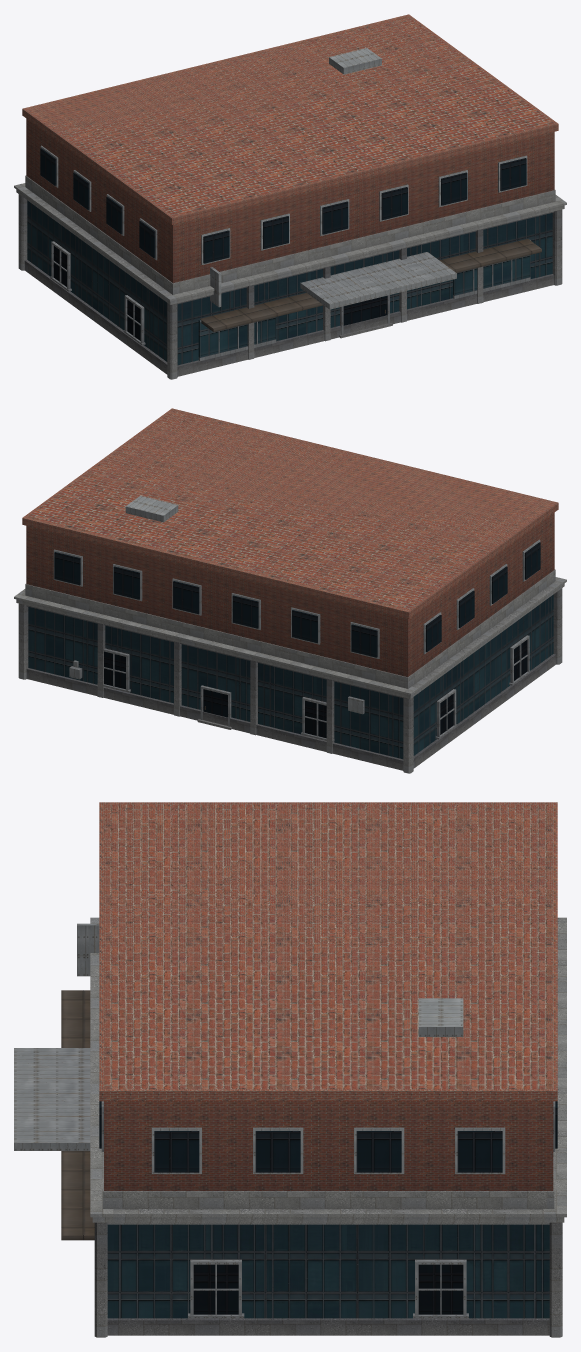
Rendered from ironworks-fitness-center_lod0.gltf.
3 renders of one model, top to bottom at view 1: azimuth 30°, elevation 25°; view 2: azimuth 150°, elevation 25°; view 3: azimuth 270°, elevation 25°, orthographic. The views are drawn at different scales.
Visible parts, largest first — view 1: ironworks-fitness-center_upper, ironworks-fitness-center__parapet, ironworks-fitness-center__v4_stone_detail, ironworks-fitness-center_base, ironworks-fitness-center_fen_07-glass-curtain-blue_1_t, ironworks-fitness-center__canopy, ironworks-fitness-center_fen_14-steel-panel_0, ironworks-fitness-center__v4_metal_detail, ironworks-fitness-center_fen_07-glass-curtain-blue_4, ironworks-fitness-center__hvac; view 2: ironworks-fitness-center_upper, ironworks-fitness-center__parapet, ironworks-fitness-center_base, ironworks-fitness-center__v4_stone_detail, ironworks-fitness-center_fen_07-glass-curtain-blue_1_t, ironworks-fitness-center_fen_14-steel-panel_0, ironworks-fitness-center__hvac; view 3: ironworks-fitness-center_upper, ironworks-fitness-center__parapet, ironworks-fitness-center_base, ironworks-fitness-center__v4_stone_detail, ironworks-fitness-center_fen_07-glass-curtain-blue_1_t, ironworks-fitness-center__canopy, ironworks-fitness-center_fen_14-steel-panel_0, ironworks-fitness-center__v4_metal_detail, ironworks-fitness-center__hvac, ironworks-fitness-center__blade_sign.
Boxes of the visible parts, box(x1,y1,x2,y2) form: ironworks-fitness-center_upper: box(26, 16, 554, 283); ironworks-fitness-center__parapet: box(22, 14, 558, 224); ironworks-fitness-center__v4_stone_detail: box(14, 175, 566, 379); ironworks-fitness-center_base: box(27, 200, 552, 365); ironworks-fitness-center_fen_07-glass-curtain-blue_1_t: box(40, 148, 526, 340); ironworks-fitness-center__canopy: box(300, 252, 456, 309); ironworks-fitness-center_fen_14-steel-panel_0: box(40, 145, 530, 361); ironworks-fitness-center__v4_metal_detail: box(200, 239, 541, 331); ironworks-fitness-center_fen_07-glass-curtain-blue_4: box(198, 239, 530, 357); ironworks-fitness-center__hvac: box(329, 48, 381, 74); ironworks-fitness-center_upper: box(26, 410, 554, 677); ironworks-fitness-center__parapet: box(22, 408, 558, 618); ironworks-fitness-center_base: box(28, 594, 553, 759); ironworks-fitness-center__v4_stone_detail: box(14, 569, 566, 773); ironworks-fitness-center_fen_07-glass-curtain-blue_1_t: box(54, 542, 540, 738); ironworks-fitness-center_fen_14-steel-panel_0: box(53, 539, 540, 742); ironworks-fitness-center__hvac: box(125, 495, 178, 522); ironworks-fitness-center_upper: box(104, 804, 553, 1190); ironworks-fitness-center__parapet: box(99, 802, 557, 1101); ironworks-fitness-center_base: box(107, 1224, 549, 1318); ironworks-fitness-center__v4_stone_detail: box(90, 917, 566, 1337); ironworks-fitness-center_fen_07-glass-curtain-blue_1_t: box(99, 1101, 557, 1314); ironworks-fitness-center__canopy: box(14, 1048, 90, 1150); ironworks-fitness-center_fen_14-steel-panel_0: box(101, 1101, 555, 1318); ironworks-fitness-center__v4_metal_detail: box(61, 990, 94, 1240); ironworks-fitness-center__hvac: box(418, 998, 463, 1036); ironworks-fitness-center__blade_sign: box(77, 923, 99, 976).
Size of the model in its own units: 31.22 by 12.5 by 24.61.
